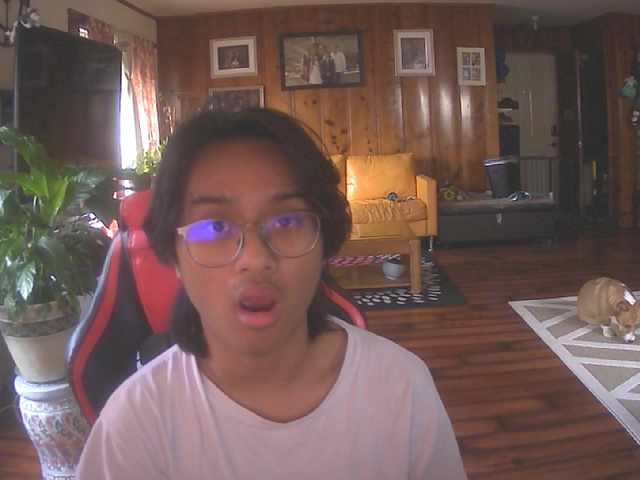fear: (173, 118, 333, 357)
